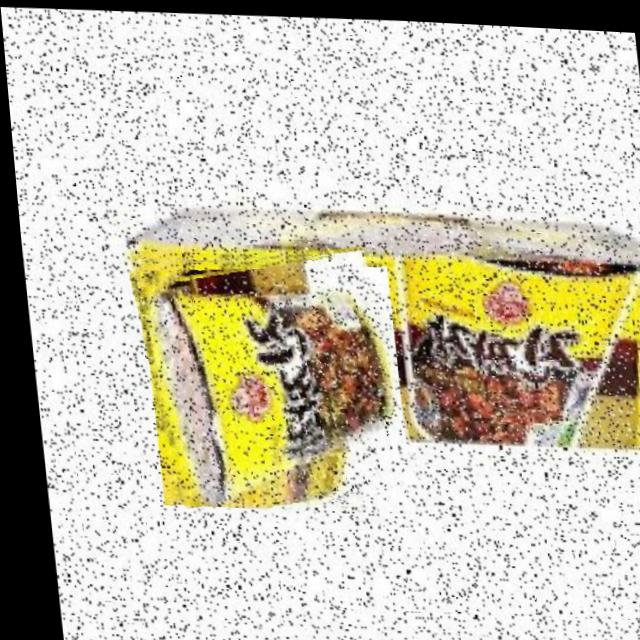Miscellaneous: (128, 239, 406, 513)
